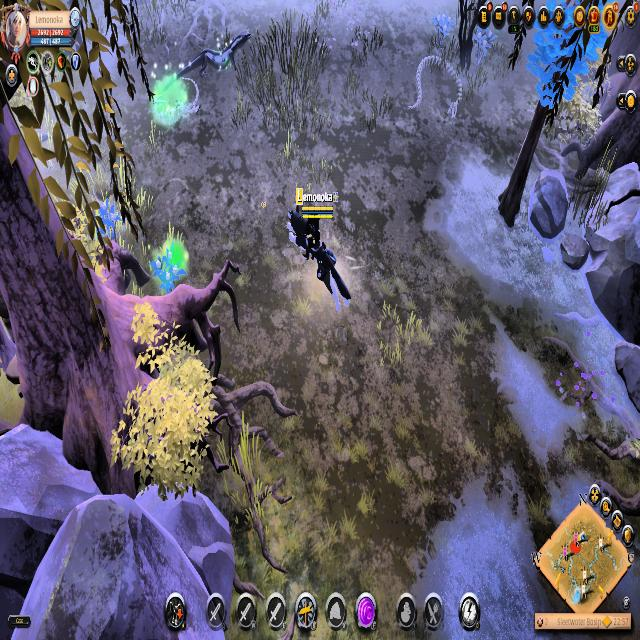fiber tier 4: (150, 241, 186, 296), (432, 11, 452, 57)
